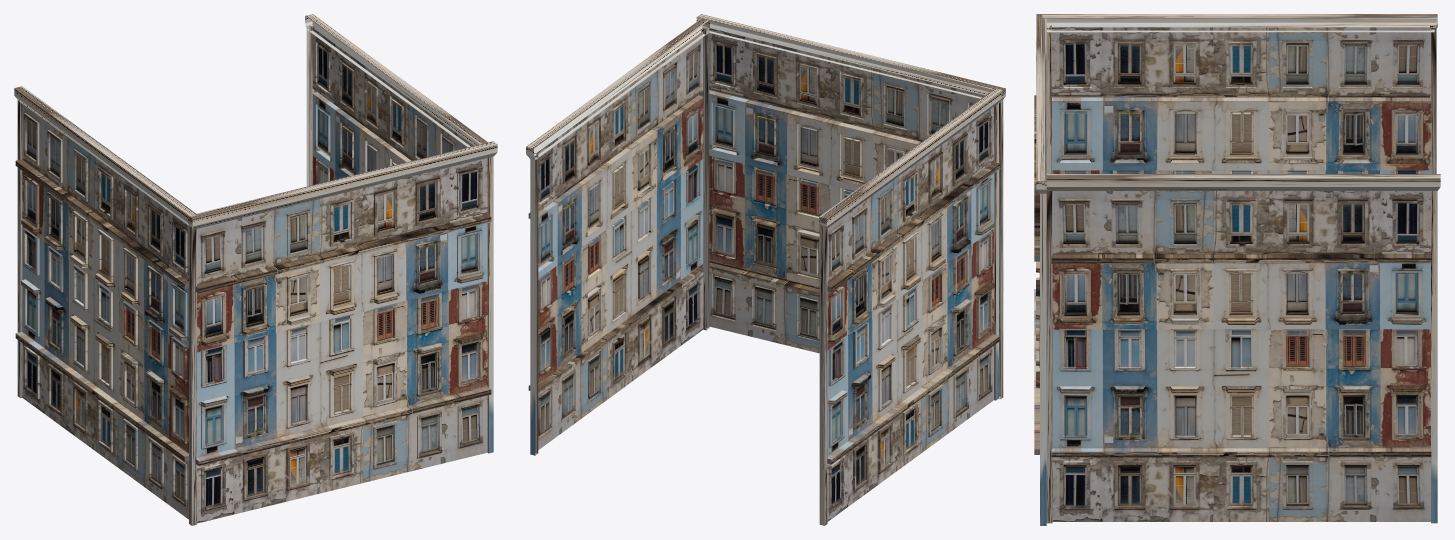
File: gedung_1.fbx
3 views of the same model, side by side, from view 1: azimuth 30°, elevation 25°; view 2: azimuth 150°, elevation 25°; view 3: azimuth 270°, elevation 25° (orthographic). The views are drawn at different scales.
Parts seen in each view (by area): view 1: pngtree-textures-of-istanbul-enhancing-building-facades-and. (×3); view 2: pngtree-textures-of-istanbul-enhancing-building-facades-and. (×3); view 3: pngtree-textures-of-istanbul-enhancing-building-facades-and. (×3).
Boxes of the visible parts, x1,y1,x2,y2 form: pngtree-textures-of-istanbul-enhancing-building-facades-and. (×3): (14, 14, 497, 525); pngtree-textures-of-istanbul-enhancing-building-facades-and. (×3): (526, 14, 1005, 525); pngtree-textures-of-istanbul-enhancing-building-facades-and. (×3): (1034, 14, 1440, 525).
Size of the model in its own units: 187 by 179 by 191.
Materials: 1 (1 with a texture image).
